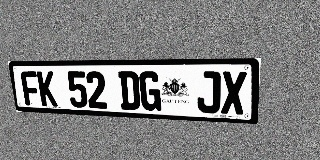2: (85, 71, 107, 109)
5: (67, 71, 89, 108)
D: (118, 71, 140, 110)
F: (20, 71, 41, 106)
G: (139, 71, 161, 111)
J: (197, 71, 221, 114)
K: (36, 71, 58, 107)
X: (221, 71, 247, 115)
